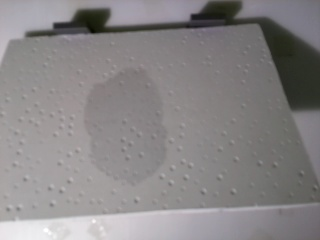Water_detected: (104, 83, 169, 177)
